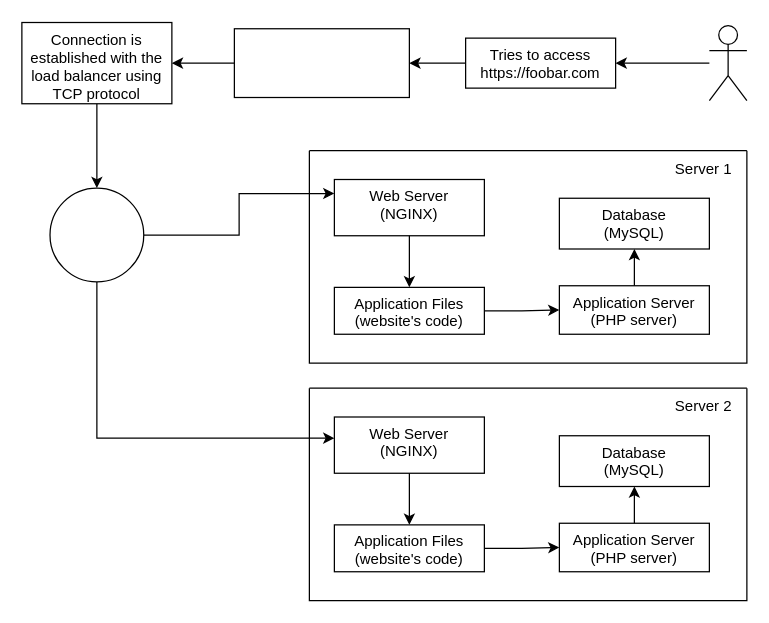
The diagram is 769 pixels wide and 623 high, and some of its shapes have lost their labels. Each missing label, with the box of its shape:
Computer contacts a DNS which translates foobar.com into 8.8.8.8: (233, 28, 409, 98)
Load Balancer (HAProxy): (49, 187, 144, 282)
User: (708, 24, 747, 101)
